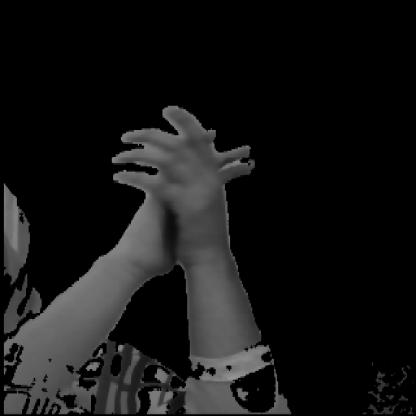clap: (64, 86, 290, 308)
